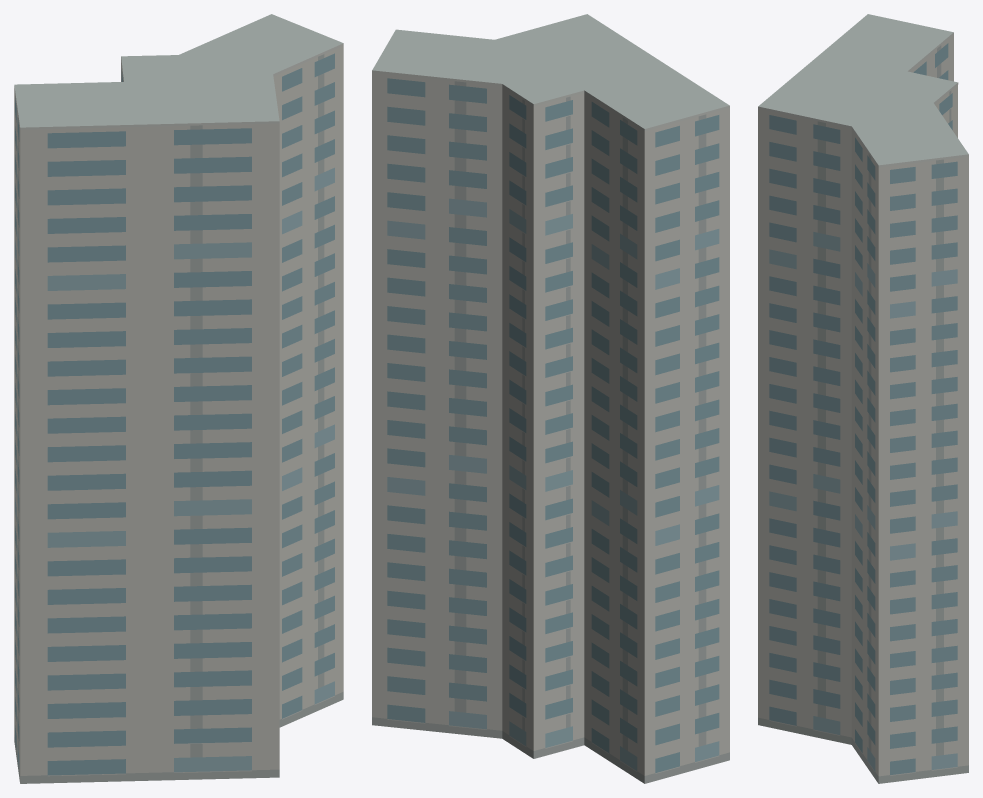
Rendered from residential-9b3aa54c-f18e-4410-80a4-3ad7dcb878e5.glb.
The picture shows the model from 3 angles, left to right: view 1: azimuth 30°, elevation 25°; view 2: azimuth 150°, elevation 25°; view 3: azimuth 270°, elevation 25°; orthographic projection. The views are drawn at different scales.
Visible parts, largest first — view 1: residential-9b3aa54c-f18e-4410-80a4-3ad7dcb878e5.tmp; view 2: residential-9b3aa54c-f18e-4410-80a4-3ad7dcb878e5.tmp; view 3: residential-9b3aa54c-f18e-4410-80a4-3ad7dcb878e5.tmp.
Boxes of the visible parts, x1=… form: residential-9b3aa54c-f18e-4410-80a4-3ad7dcb878e5.tmp: x1=14, y1=14, x2=343, y2=783; residential-9b3aa54c-f18e-4410-80a4-3ad7dcb878e5.tmp: x1=372, y1=14, x2=729, y2=783; residential-9b3aa54c-f18e-4410-80a4-3ad7dcb878e5.tmp: x1=758, y1=14, x2=968, y2=783.
Bounding box in the file's own units: 36.75 × 70 × 21.63.
